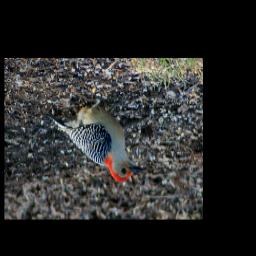Woodpecker: (50, 91, 145, 181)
